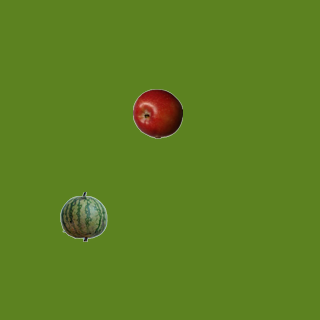Apple Braeburn: (132, 88, 182, 138)
Watermelon: (58, 191, 108, 241)
